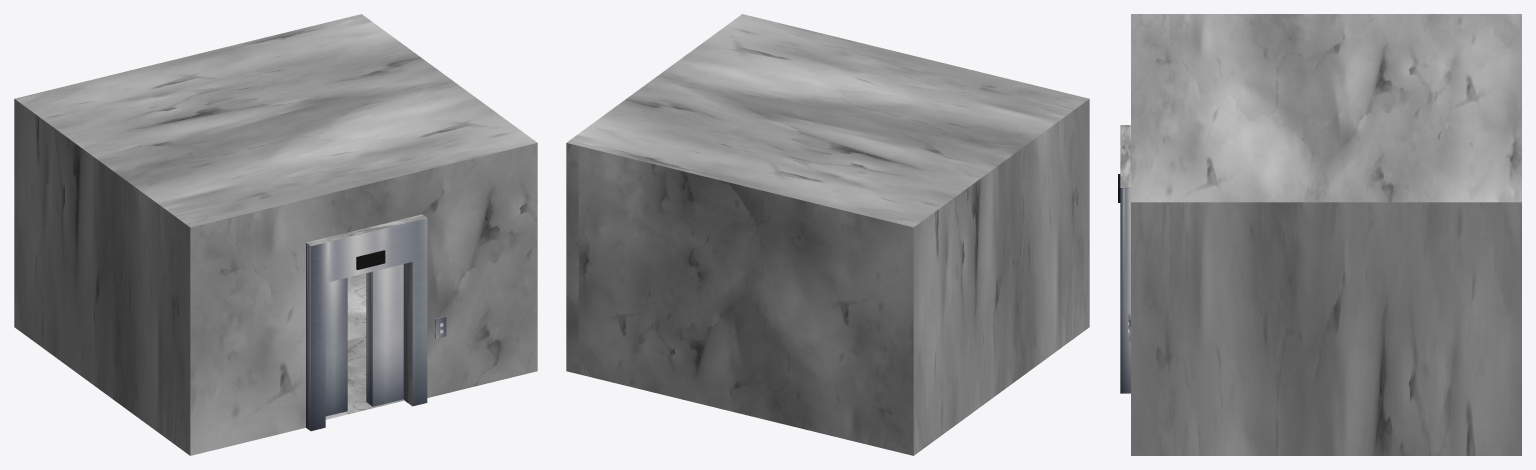
Rendered from Elevator2.fbx.
3 renders of one model, left to right at view 1: azimuth 30°, elevation 25°; view 2: azimuth 150°, elevation 25°; view 3: azimuth 270°, elevation 25°, orthographic. The views are drawn at different scales.
Visible parts, largest first — view 1: Cube, Cube.001, Cube.002, Plane.001; view 2: Cube; view 3: Cube.
Boxes of the visible parts, left/top/right/bottom form: Cube: left=14, top=14, right=537, bottom=455; Cube.001: left=366, top=264, right=403, bottom=406; Cube.002: left=325, top=278, right=347, bottom=416; Plane.001: left=325, top=273, right=404, bottom=419; Cube: left=566, top=14, right=1089, bottom=455; Cube: left=1120, top=14, right=1521, bottom=455.
Bounding box in the file's own units: 799 × 502 × 725.
